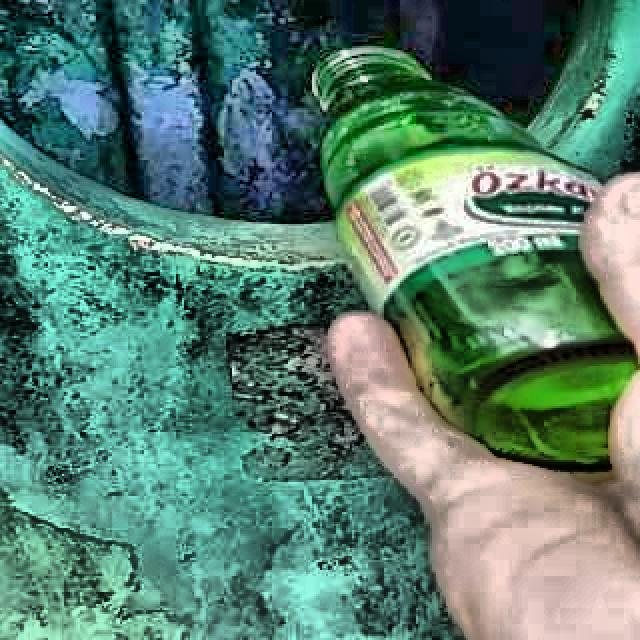glass: (312, 45, 637, 469)
